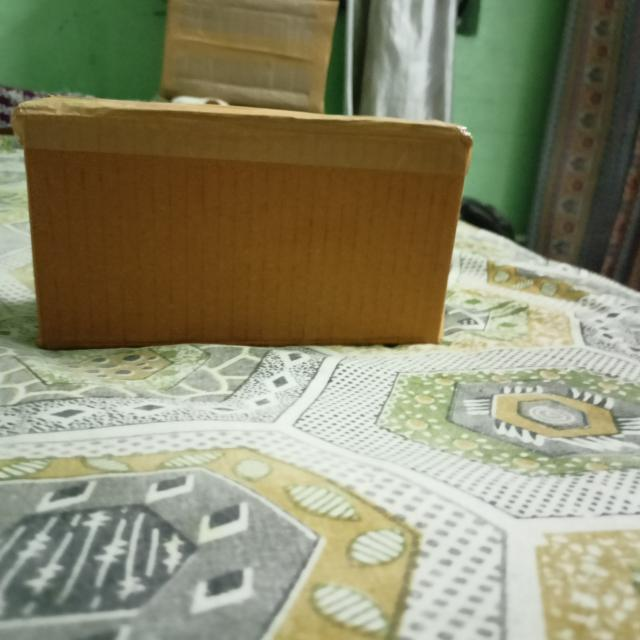box: (30, 104, 469, 353)
